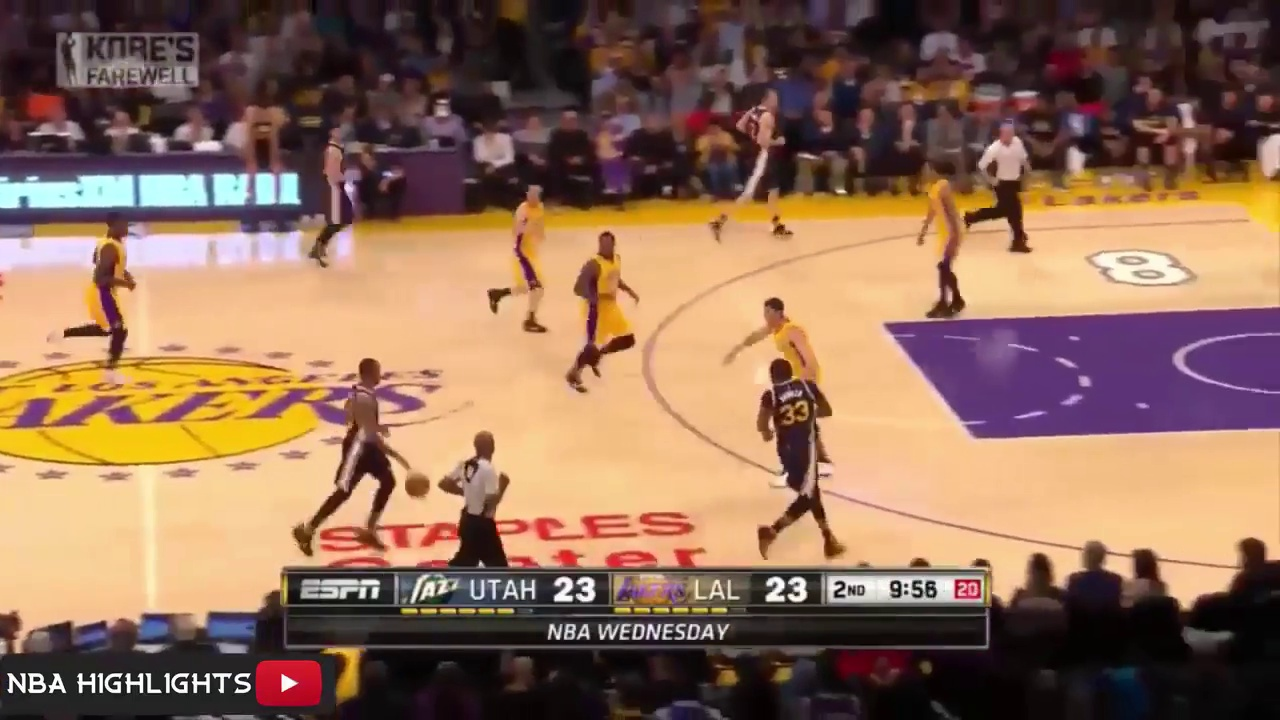jazz: (739, 359, 856, 560), (294, 350, 401, 555), (703, 86, 801, 243), (306, 125, 356, 267)
lakers: (559, 233, 651, 385), (57, 217, 137, 390), (490, 178, 551, 343), (914, 162, 970, 320), (731, 303, 826, 379)
